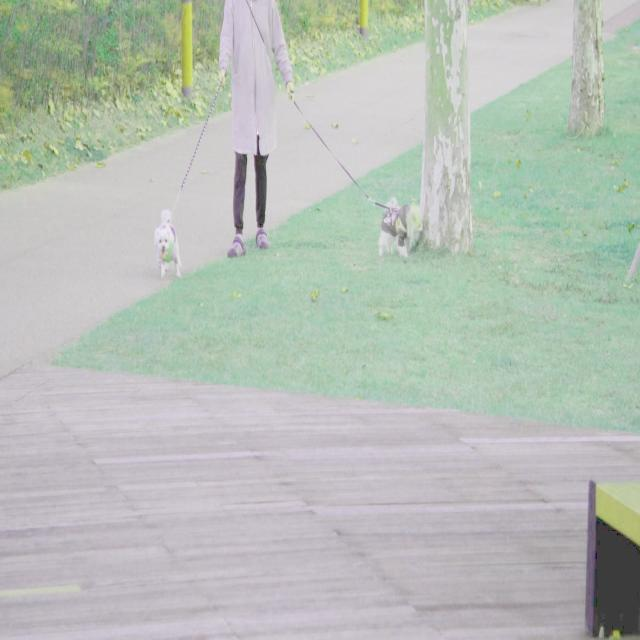Leashed_Dog: (260, 68, 423, 260), (154, 64, 242, 280)
